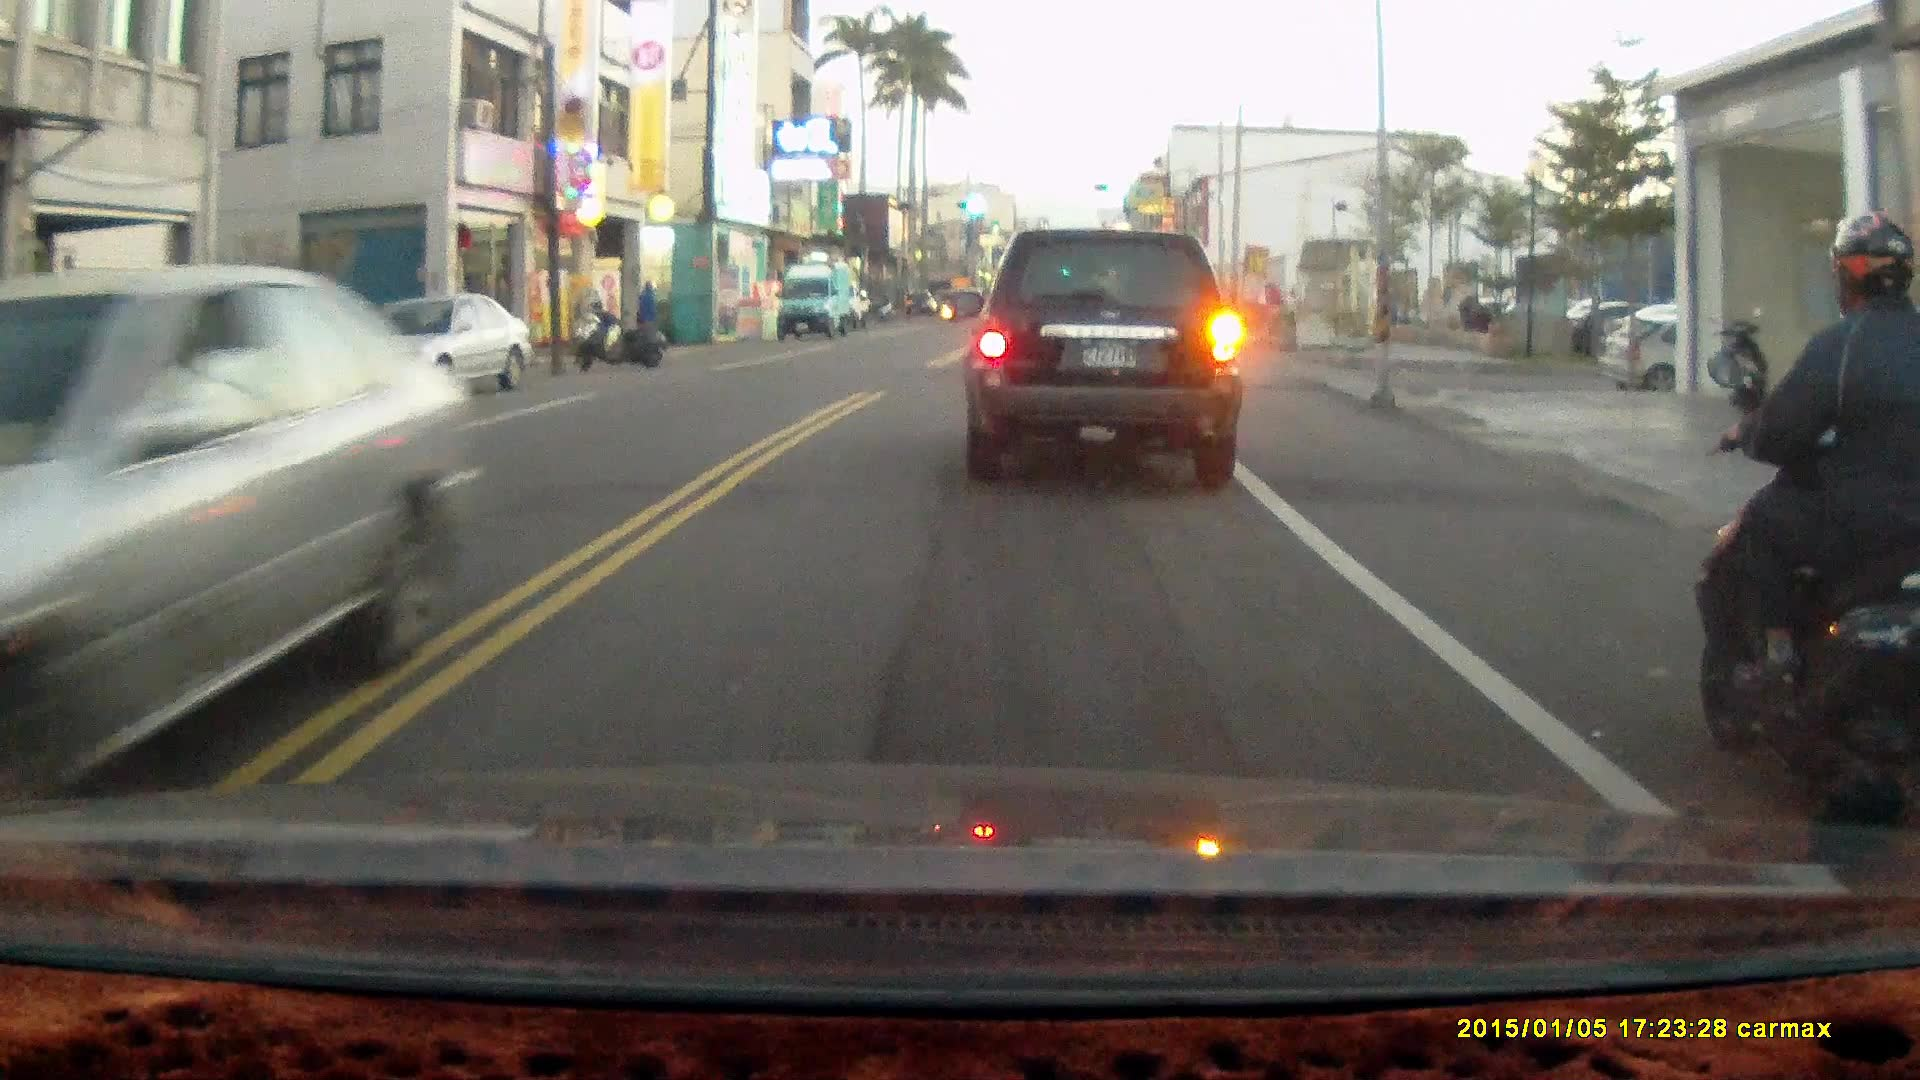pedestrian: (631, 273, 660, 351)
rider: (1686, 208, 1920, 842)
vehicle: (1, 266, 450, 809), (973, 223, 1249, 491), (301, 291, 534, 409), (1602, 317, 1820, 403), (776, 263, 864, 343)
